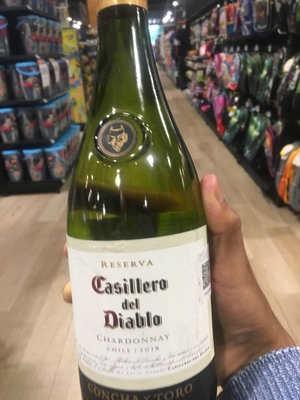casillero del diablo chardonnay: (61, 19, 216, 400)
